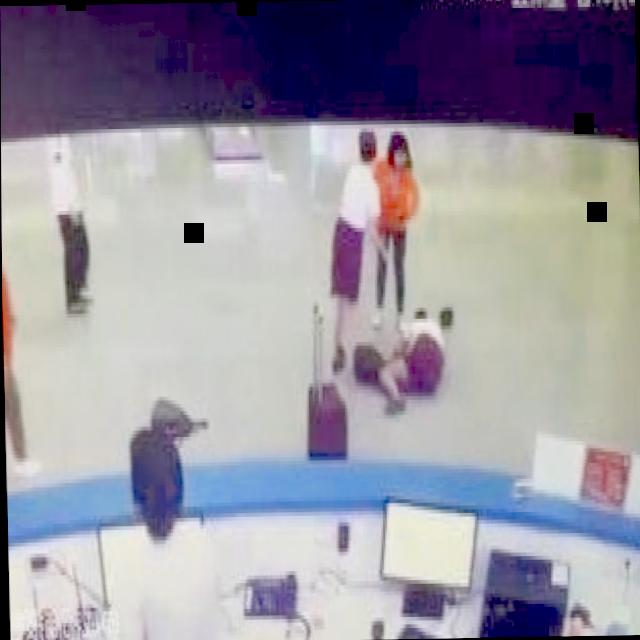Fall-Detected: (374, 281, 463, 407)
